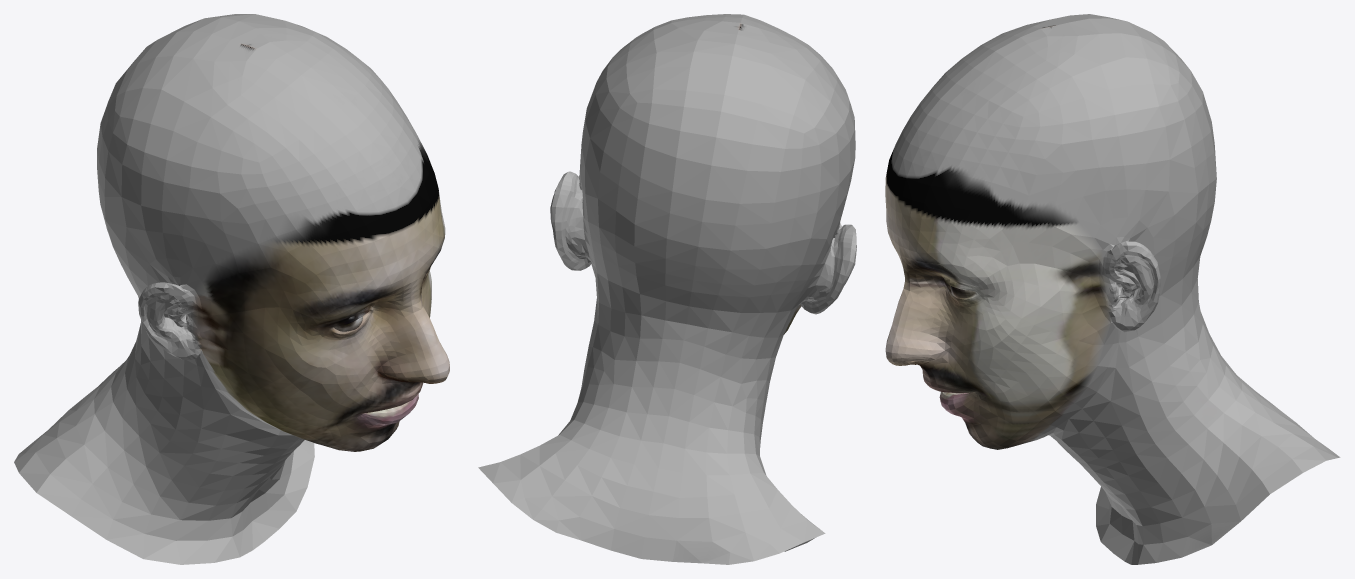
File: ezgif-frame-060.obj
3 views of the same model, side by side, from view 1: azimuth 30°, elevation 25°; view 2: azimuth 150°, elevation 25°; view 3: azimuth 270°, elevation 25° (orthographic). The views are drawn at different scales.
Size of the model in its own units: 0.1933 by 0.3242 by 0.262.
1 material, 1 textured.
